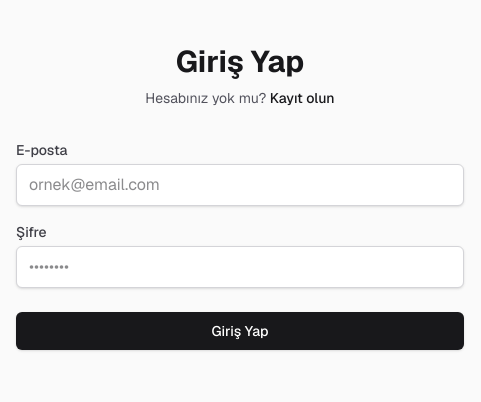
Test: authentication pages › shows the fallback sign-in error for unknown failures
The width and height of the screenshot is (481, 402).
Step 1. Type "user@example.com" into the field labelled "E-posta" → (240, 185), box left=16, top=164, right=464, bottom=206
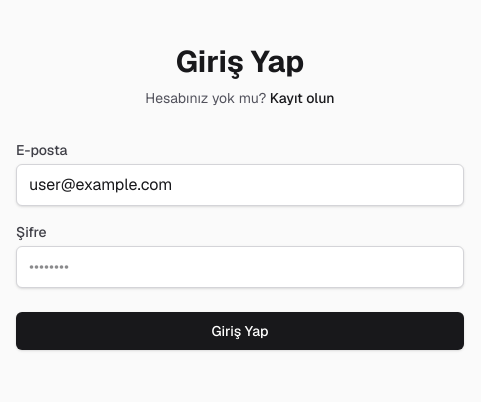
Step 2. Type "secret123" into the password field labelled "Şifre" → (240, 267), box left=16, top=246, right=464, bottom=288
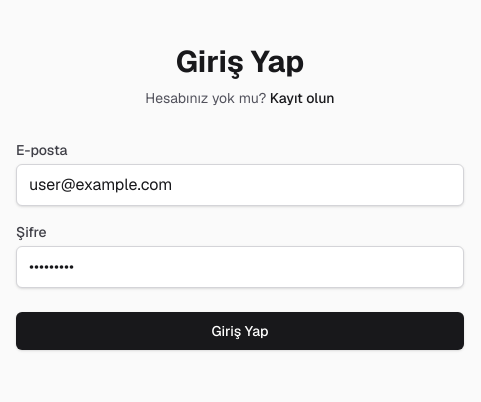
Step 3. Click the button "Giriş Yap" → (240, 331), box left=16, top=312, right=464, bottom=350
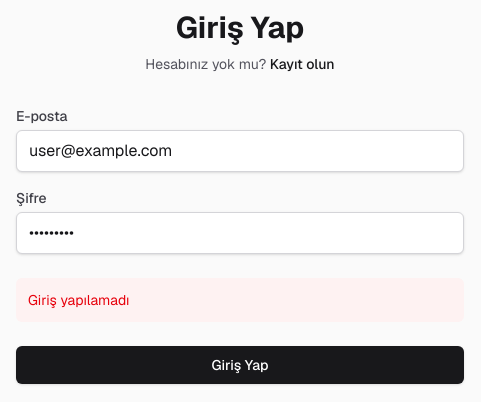
expect the text "Giriş yapılamadı" is shown: met, box left=16, top=278, right=464, bottom=322
